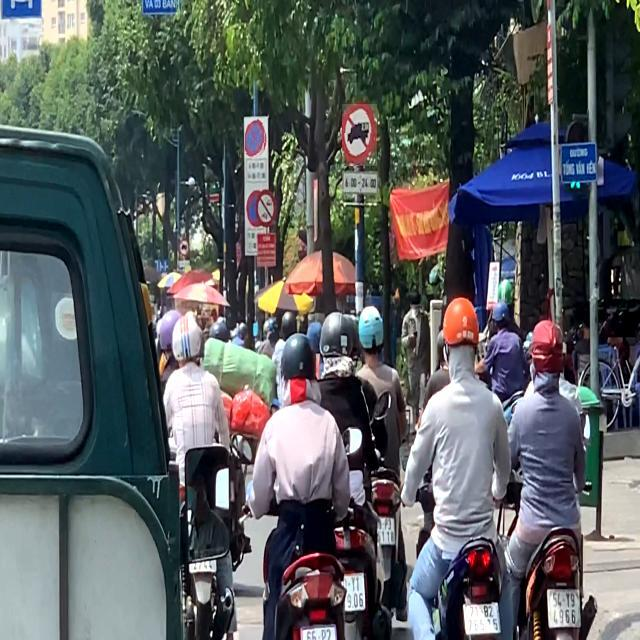P-106b: (342, 104, 377, 166)
P-130: (245, 119, 267, 158)
